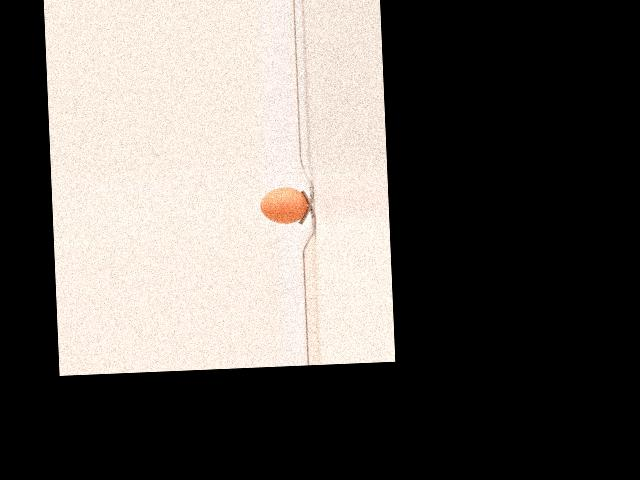egg: (260, 186, 308, 224)
